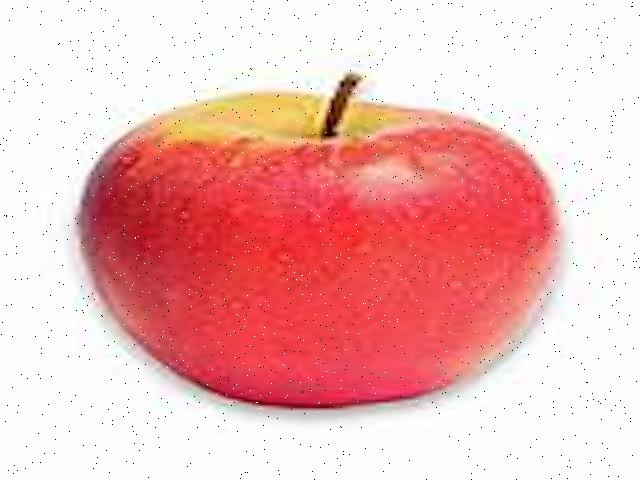apple: (64, 68, 571, 416)
